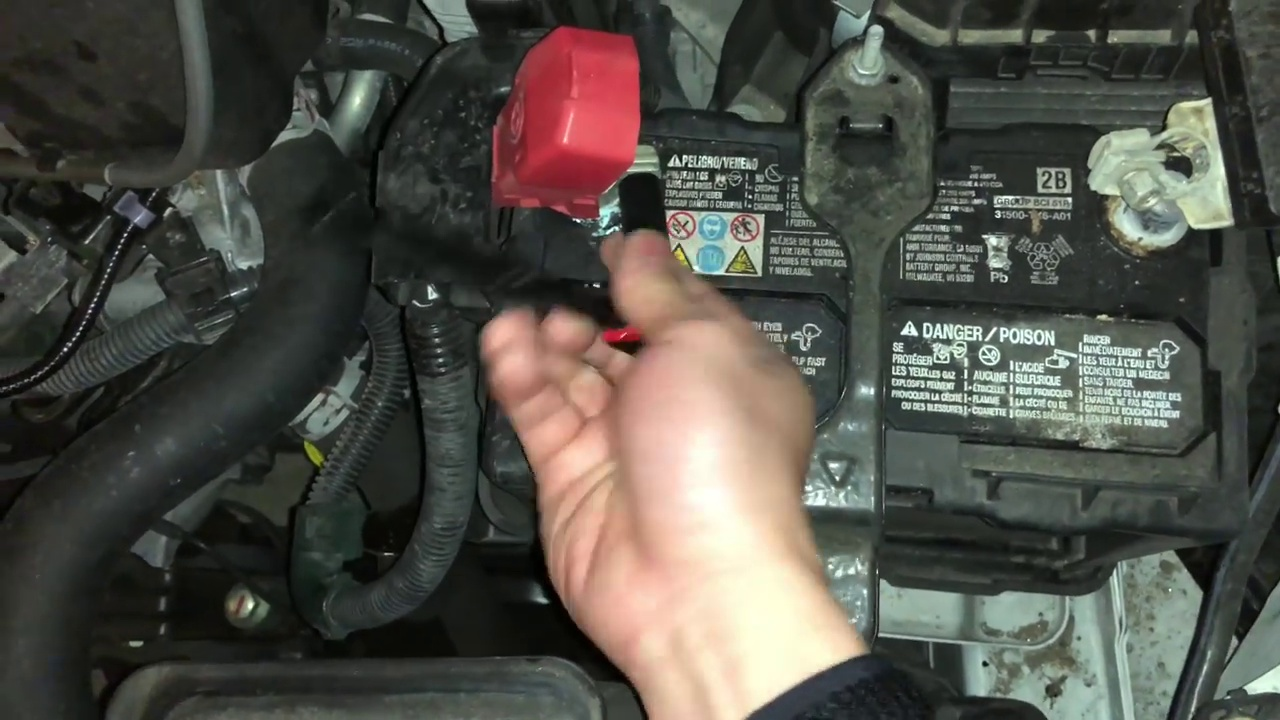battery: (483, 80, 1264, 551)
neg_disconnected: (1046, 111, 1233, 261)
pos_touched: (469, 36, 739, 467)
